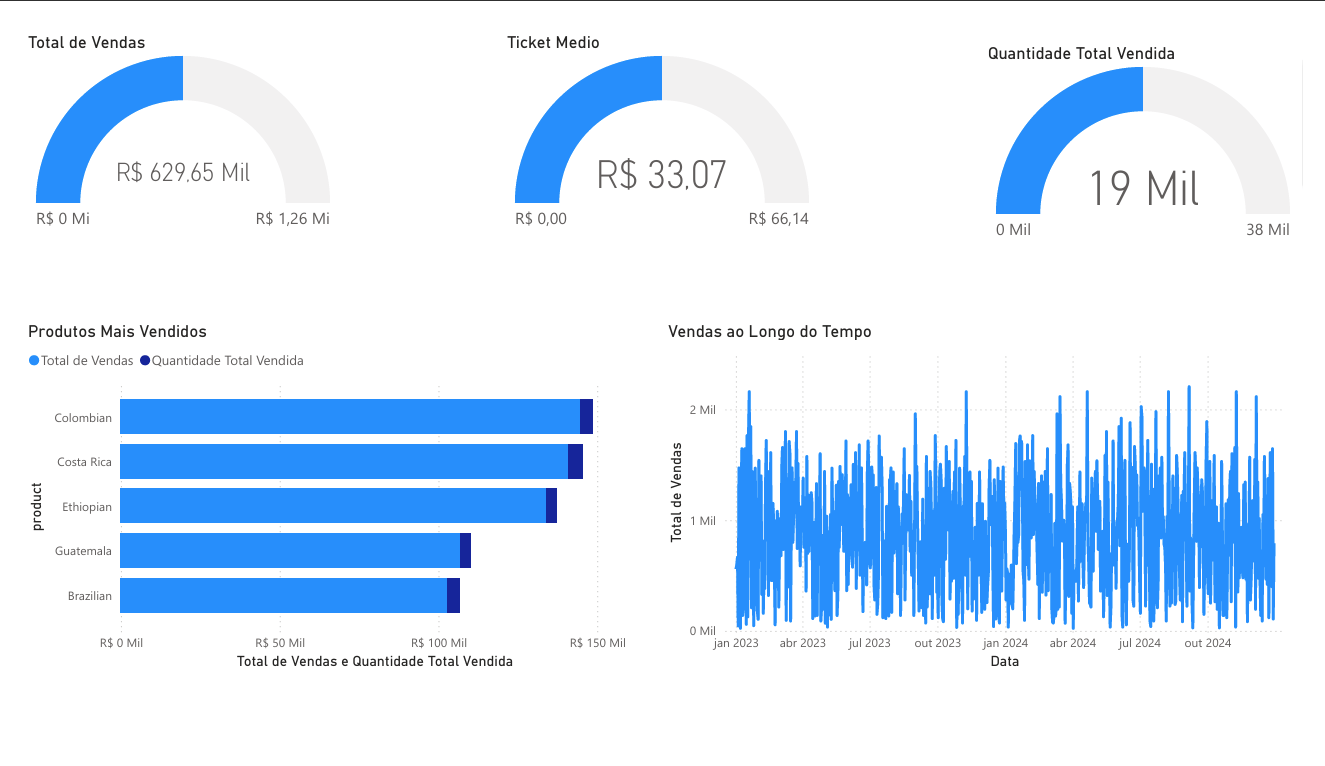

This screenshot's page, from the dashboard's own definition file:
{"tool":"powerbi","page":{"name":"Página 1","canvas":[1280,720],"ordinal":0},"visuals":[{"type":"gauge","title":"Total de Vendas","fields":{"Y":["Sum(public coffee_beans_sales.final_sales)"]},"box":[0,0,320,207],"z":0},{"type":"gauge","title":"Quantidade Total Vendida","fields":{"Y":["Sum(public coffee_beans_sales.quantity)"]},"box":[640,0,320,207],"z":1000},{"type":"gauge","title":"Ticket Medio","fields":{"Y":["public coffee_beans_sales.ticket_Medio"]},"box":[320,0,320,207],"z":2000},{"type":"barChart","title":"Produtos Mais Vendidos","fields":{"Category":["public coffee_beans_sales.product"],"Y":["Sum(public coffee_beans_sales.final_sales)","Sum(public coffee_beans_sales.quantity)"]},"box":[0,296,640,353],"z":3000},{"type":"lineChart","title":"Vendas ao Longo do Tempo","fields":{"Y":["Sum(public coffee_beans_sales.final_sales)"],"Category":["public coffee_beans_sales.date"]},"box":[640,296,640,353],"z":4000}]}

Visuals, with their boxes in screenshot pixels (x1, y1, x2, y2), scaled from the page's 1280x720 canvas onto the 1325x766 screenshot:
"Total de Vendas" gauge: Rect(0, 0, 331, 220)
"Quantidade Total Vendida" gauge: Rect(662, 0, 994, 220)
"Ticket Medio" gauge: Rect(331, 0, 662, 220)
"Produtos Mais Vendidos" barChart: Rect(0, 315, 662, 690)
"Vendas ao Longo do Tempo" lineChart: Rect(662, 315, 1324, 690)
